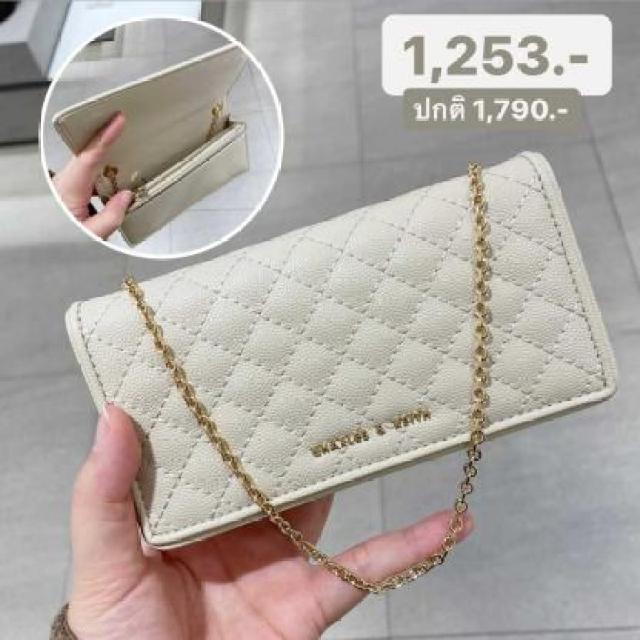Bag: (24, 152, 638, 640)
